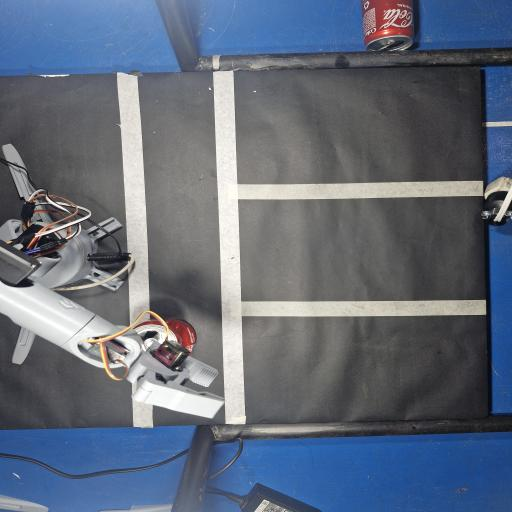lata_defectuoso: (166, 319, 196, 353), (134, 320, 165, 351)
